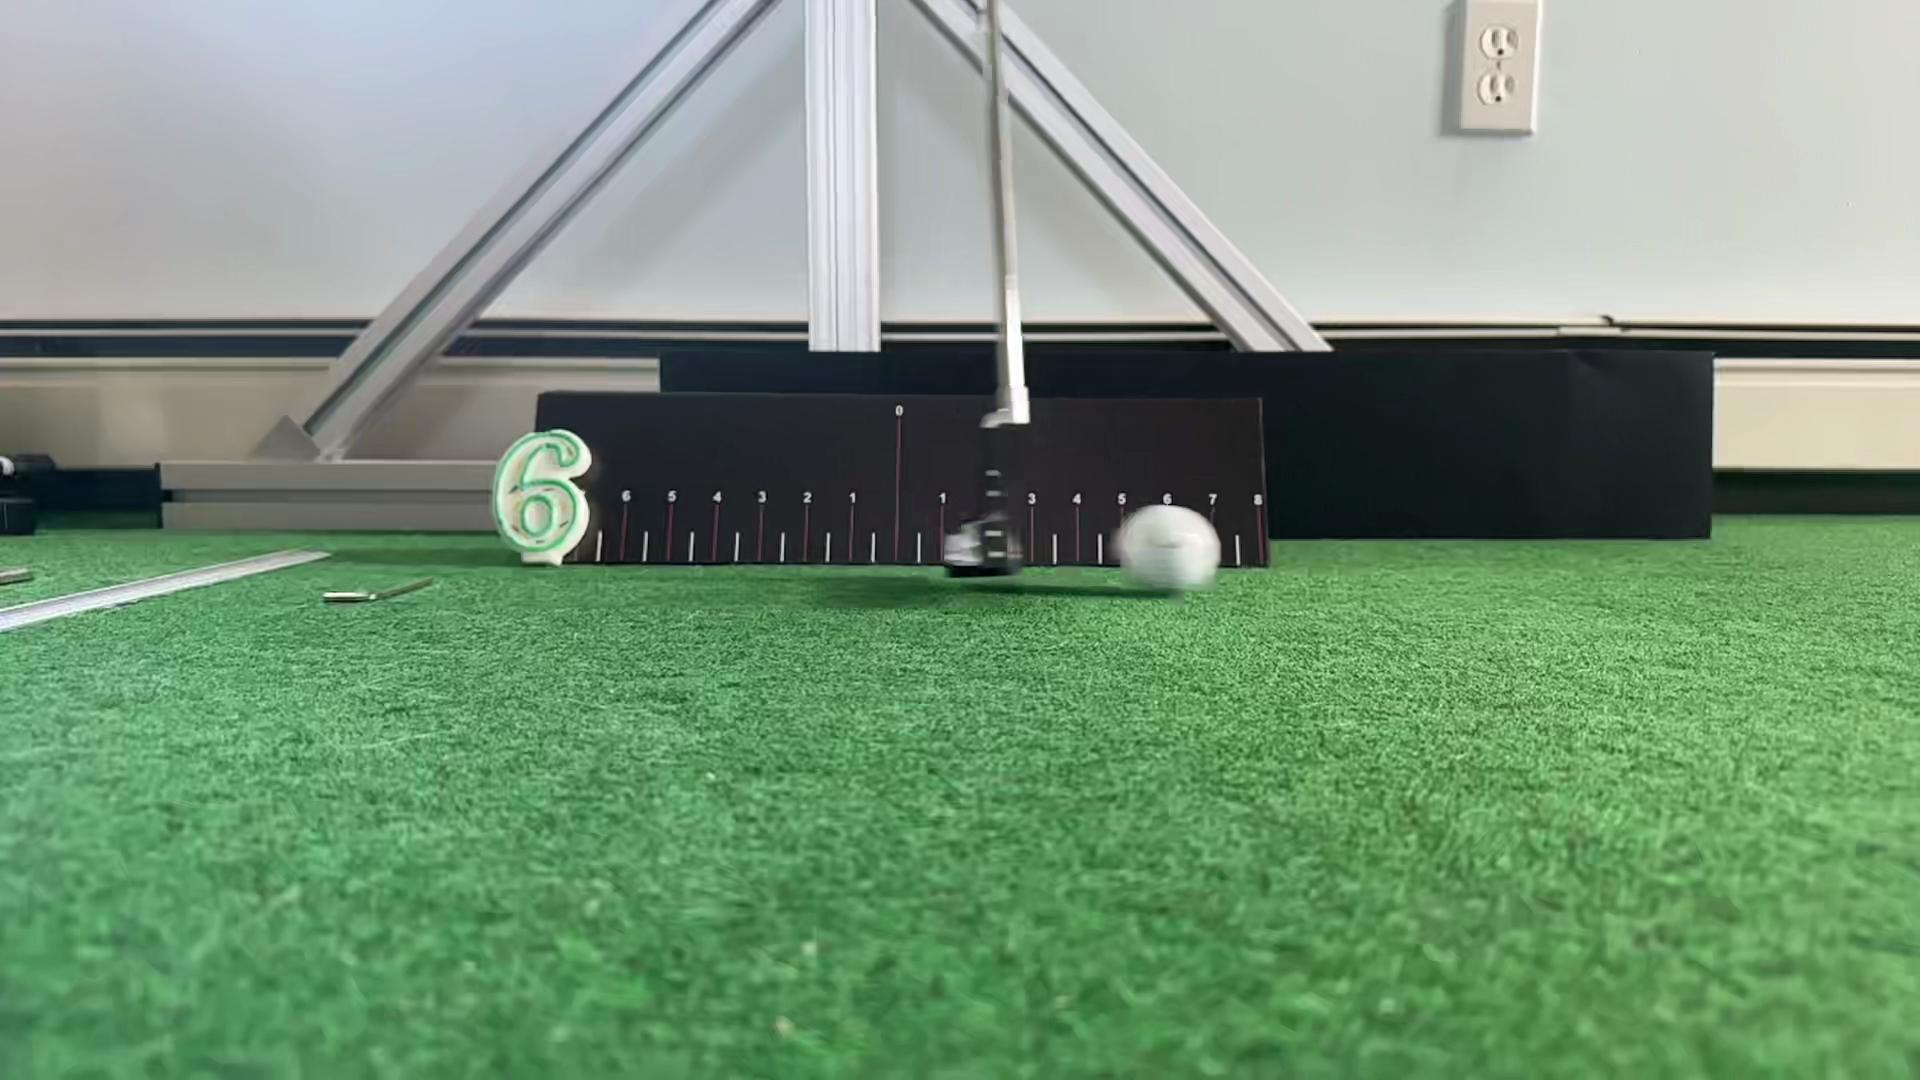golfball: (1118, 505, 1219, 594)
